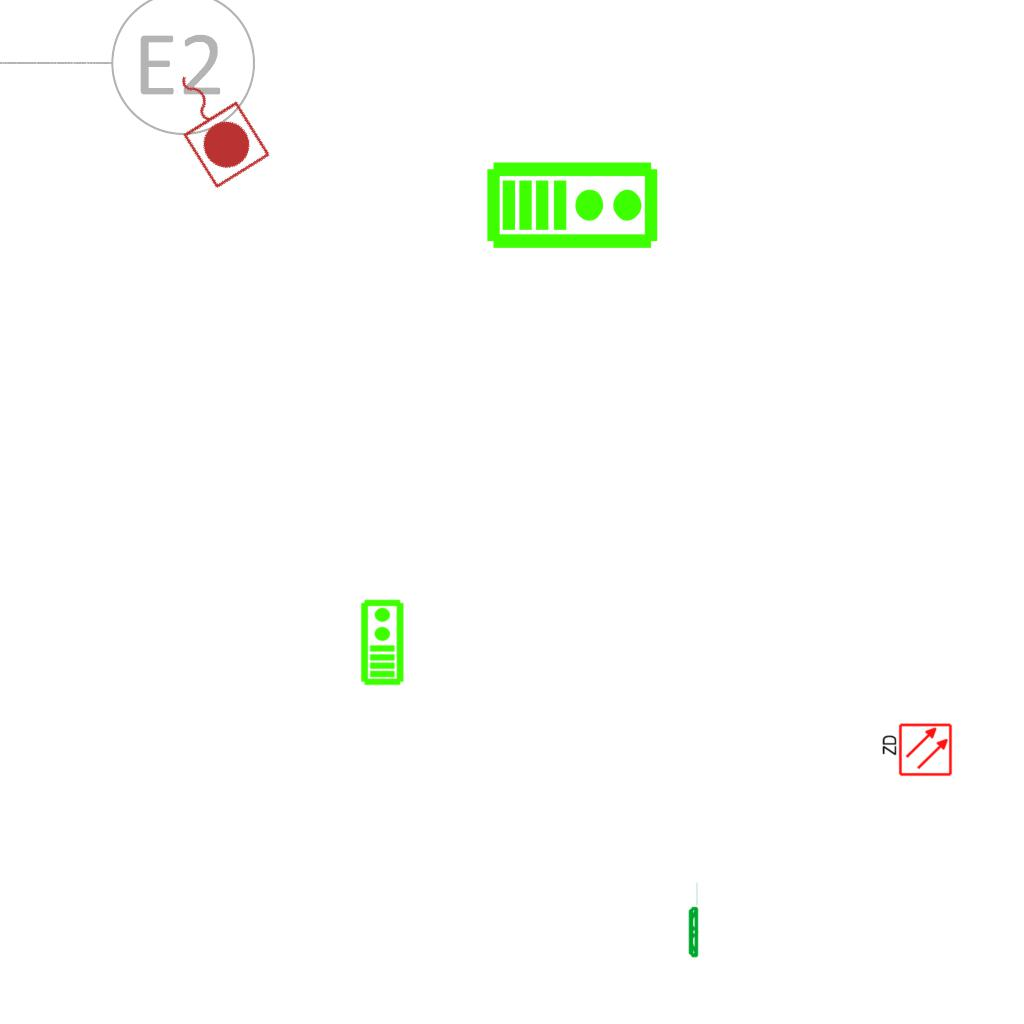Gegensprechanlage_mit_Video: (485, 156, 661, 251), (358, 598, 405, 686)
Sicherheitsleuchte_Wandeinbau: (687, 880, 699, 959)
ZD_Melder_in_Zwischendecke_mit_Revisionsoeffnung_mind_40_x_40_cm: (879, 722, 953, 779)
Zugtaster: (151, 52, 277, 194)
